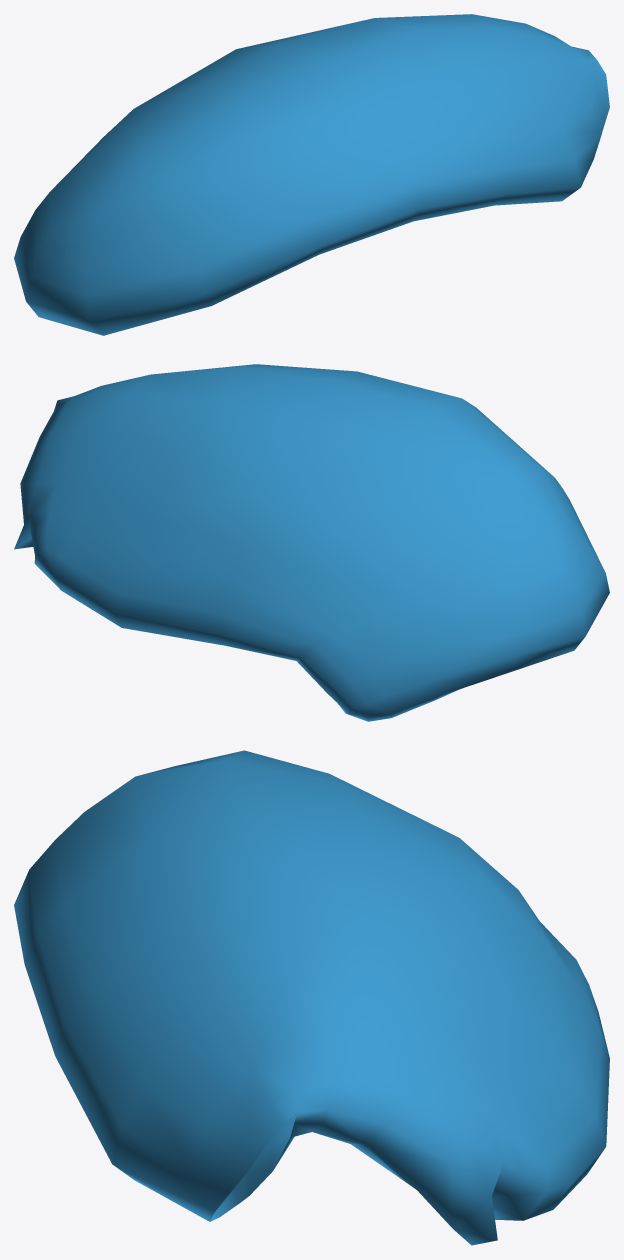
The model's file is snowpatch_02.FBX.
The picture shows the model from 3 angles, top to bottom: view 1: azimuth 30°, elevation 25°; view 2: azimuth 150°, elevation 25°; view 3: azimuth 270°, elevation 25°; orthographic projection. The views are drawn at different scales.
Parts seen in each view (by area): view 1: snowpatch_02; view 2: snowpatch_02; view 3: snowpatch_02.
Boxes of the visible parts, <box> form: snowpatch_02: <box>14,14,609,335</box>; snowpatch_02: <box>14,364,609,721</box>; snowpatch_02: <box>14,750,609,1245</box>.
Bounding box in the file's own units: 230 × 95.83 × 146.
